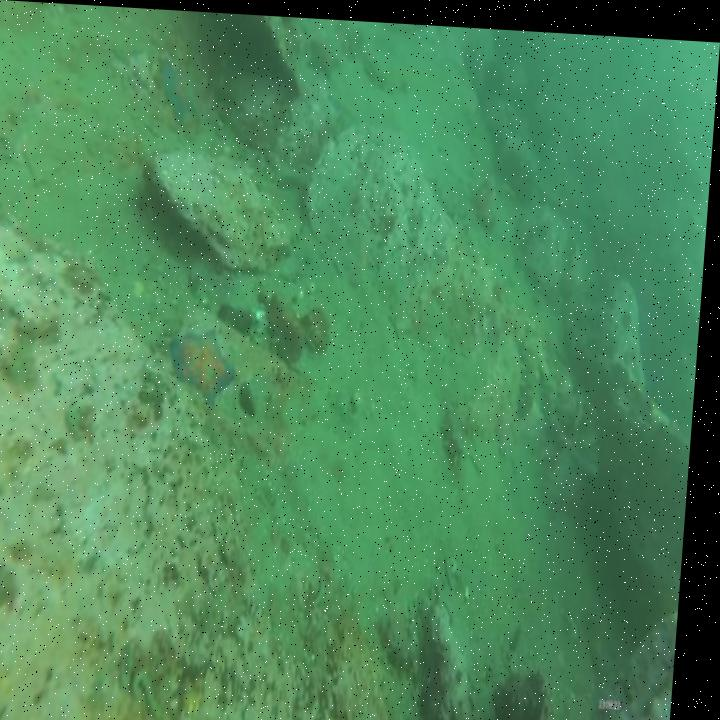holothurian: (447, 385, 490, 468), (520, 315, 550, 421)
starfish: (170, 314, 246, 407), (155, 56, 203, 125)
